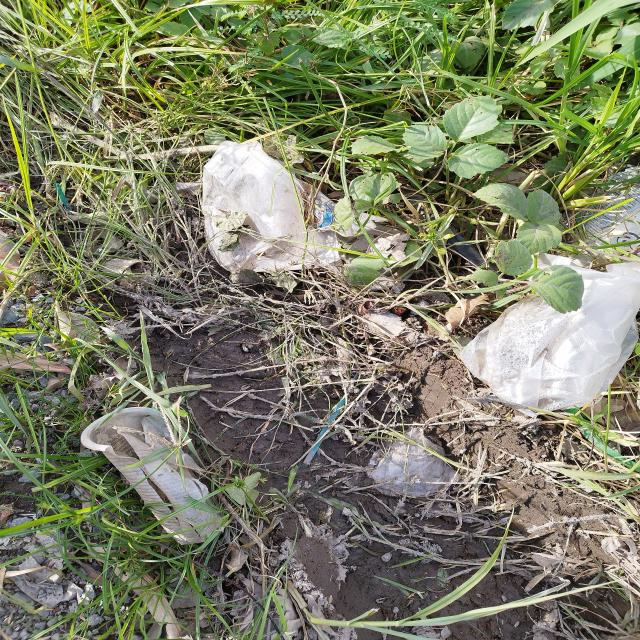bag: (201, 139, 341, 273), (371, 428, 463, 498)
plastic glass: (80, 406, 224, 546)
snack package: (573, 166, 640, 268)
trash bag: (459, 262, 640, 419)
